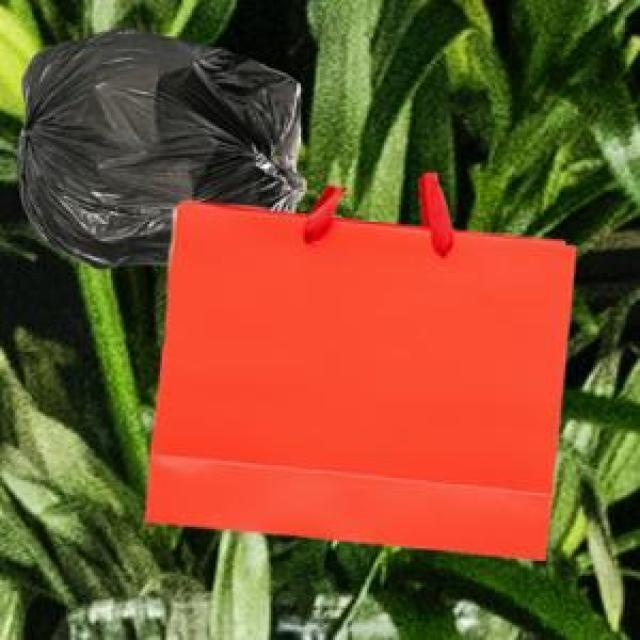miscellaneous trash: (15, 24, 301, 265)
paper: (141, 169, 571, 557)
